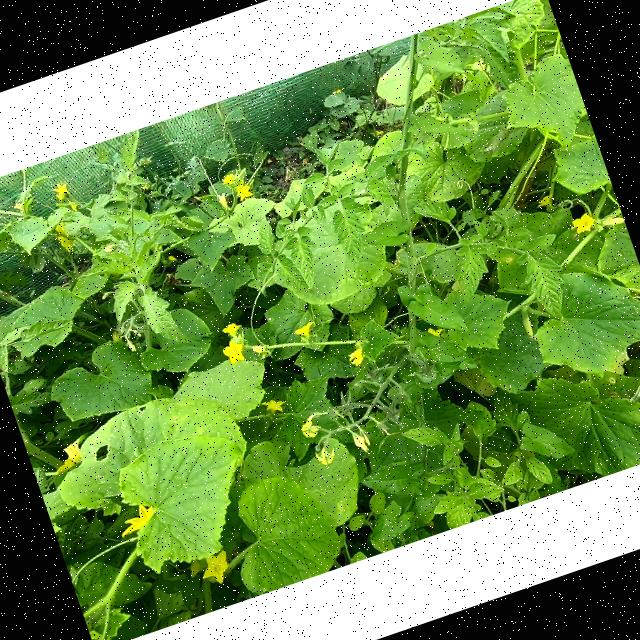Flowers: (114, 500, 162, 540), (196, 548, 236, 589), (48, 440, 86, 476), (218, 337, 248, 367), (258, 394, 290, 421), (568, 209, 598, 237), (348, 422, 373, 454), (298, 412, 322, 440), (314, 443, 338, 468), (294, 320, 318, 344), (345, 346, 367, 369), (220, 318, 243, 339), (234, 180, 255, 201), (250, 338, 270, 360), (51, 180, 72, 198), (220, 170, 242, 187), (537, 193, 557, 210), (215, 190, 230, 210)
